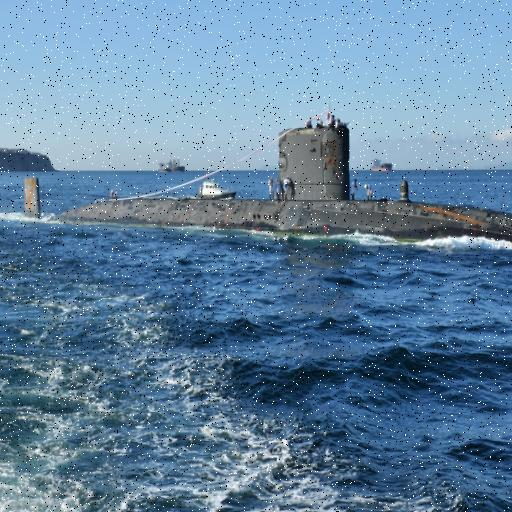submarine: (19, 126, 512, 248)
